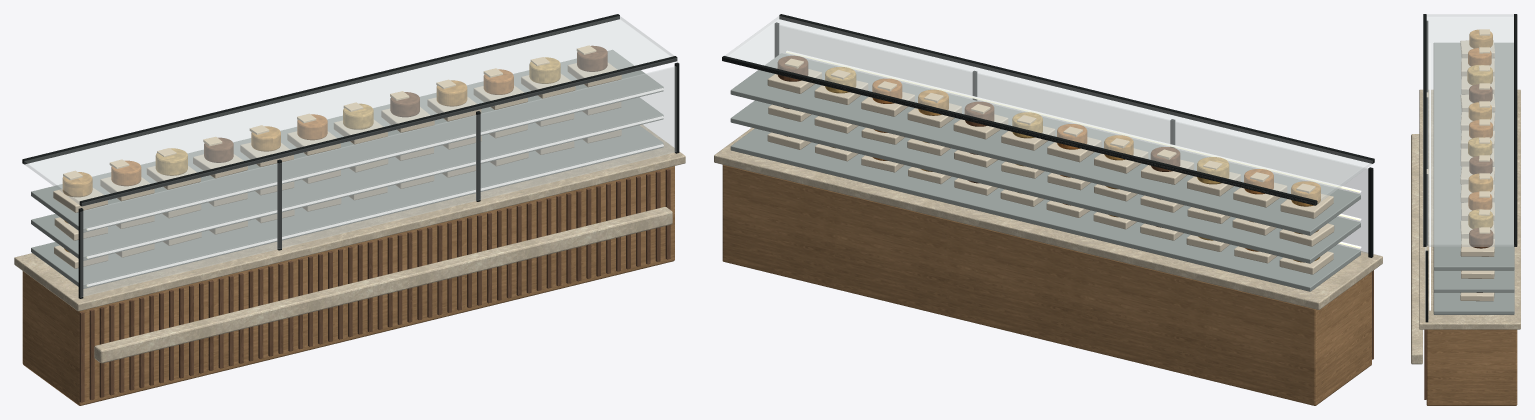
The model's file is hiperreal.glb.
The picture shows the model from 3 angles, left to right: view 1: azimuth 30°, elevation 25°; view 2: azimuth 150°, elevation 25°; view 3: azimuth 270°, elevation 25°; orthographic projection. The views are drawn at different scales.
Visible parts, largest first — view 1: starbucksDisplay_181, starbucksDisplay_182, starbucksDisplay_0, starbucksDisplay_139, starbucksDisplay_61, starbucksDisplay_63, starbucksDisplay_101, starbucksDisplay_62, starbucksDisplay_183, starbucksDisplay_184, starbucksDisplay_138, starbucksDisplay_100 (+13 smaller); view 2: starbucksDisplay_0, starbucksDisplay_182, starbucksDisplay_139, starbucksDisplay_181, starbucksDisplay_101, starbucksDisplay_63, starbucksDisplay_61, starbucksDisplay_183, starbucksDisplay_184, starbucksDisplay_176, starbucksDisplay_140, starbucksDisplay_152 (+11 smaller); view 3: starbucksDisplay_182, starbucksDisplay_139, starbucksDisplay_0, starbucksDisplay_61, starbucksDisplay_62, starbucksDisplay_101, starbucksDisplay_63, starbucksDisplay_183, starbucksDisplay_184, starbucksDisplay_176, starbucksDisplay_173, starbucksDisplay_147 (+29 smaller).
Boxes of the visible parts, bbox=[...] form: starbucksDisplay_181: bbox=[80, 66, 676, 297]; starbucksDisplay_182: bbox=[24, 16, 677, 206]; starbucksDisplay_0: bbox=[22, 166, 674, 405]; starbucksDisplay_139: bbox=[31, 50, 663, 232]; starbucksDisplay_61: bbox=[14, 124, 685, 311]; starbucksDisplay_63: bbox=[31, 125, 663, 288]; starbucksDisplay_101: bbox=[31, 97, 663, 260]; starbucksDisplay_62: bbox=[94, 207, 672, 363]; starbucksDisplay_183: bbox=[22, 14, 619, 164]; starbucksDisplay_184: bbox=[79, 56, 677, 206]; starbucksDisplay_138: bbox=[86, 116, 663, 258]; starbucksDisplay_100: bbox=[86, 144, 663, 286]; starbucksDisplay_0: bbox=[722, 165, 1371, 405]; starbucksDisplay_182: bbox=[725, 16, 1372, 203]; starbucksDisplay_139: bbox=[730, 53, 1360, 235]; starbucksDisplay_181: bbox=[779, 25, 1373, 254]; starbucksDisplay_101: bbox=[730, 100, 1360, 263]; starbucksDisplay_63: bbox=[730, 128, 1360, 291]; starbucksDisplay_61: bbox=[714, 127, 1382, 309]; starbucksDisplay_183: bbox=[722, 56, 1317, 205]; starbucksDisplay_184: bbox=[779, 14, 1374, 163]; starbucksDisplay_176: bbox=[786, 50, 1361, 192]; starbucksDisplay_140: bbox=[1280, 194, 1333, 218]; starbucksDisplay_152: bbox=[1094, 148, 1148, 173]; starbucksDisplay_182: bbox=[1423, 14, 1515, 246]; starbucksDisplay_139: bbox=[1433, 42, 1514, 270]; starbucksDisplay_0: bbox=[1426, 329, 1517, 405]; starbucksDisplay_61: bbox=[1419, 89, 1520, 329]; starbucksDisplay_62: bbox=[1411, 134, 1422, 364]; starbucksDisplay_101: bbox=[1433, 270, 1514, 292]; starbucksDisplay_63: bbox=[1433, 292, 1514, 314]; starbucksDisplay_183: bbox=[1514, 14, 1517, 246]; starbucksDisplay_184: bbox=[1423, 14, 1426, 246]; starbucksDisplay_176: bbox=[1429, 43, 1430, 266]; starbucksDisplay_173: bbox=[1460, 238, 1494, 256]; starbucksDisplay_147: bbox=[1467, 65, 1492, 85].
Size of the model in its own units: 6.12 by 1.98 by 1.21.
13 materials, 7 textured.
